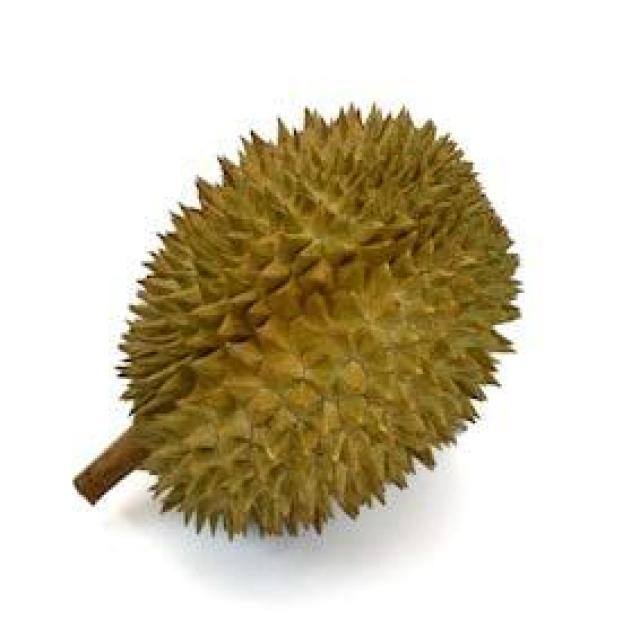mature: (120, 107, 519, 535)
